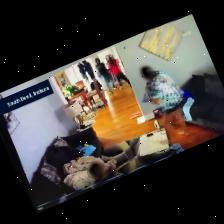person: (141, 66, 188, 138), (95, 57, 116, 94), (107, 55, 130, 88)
